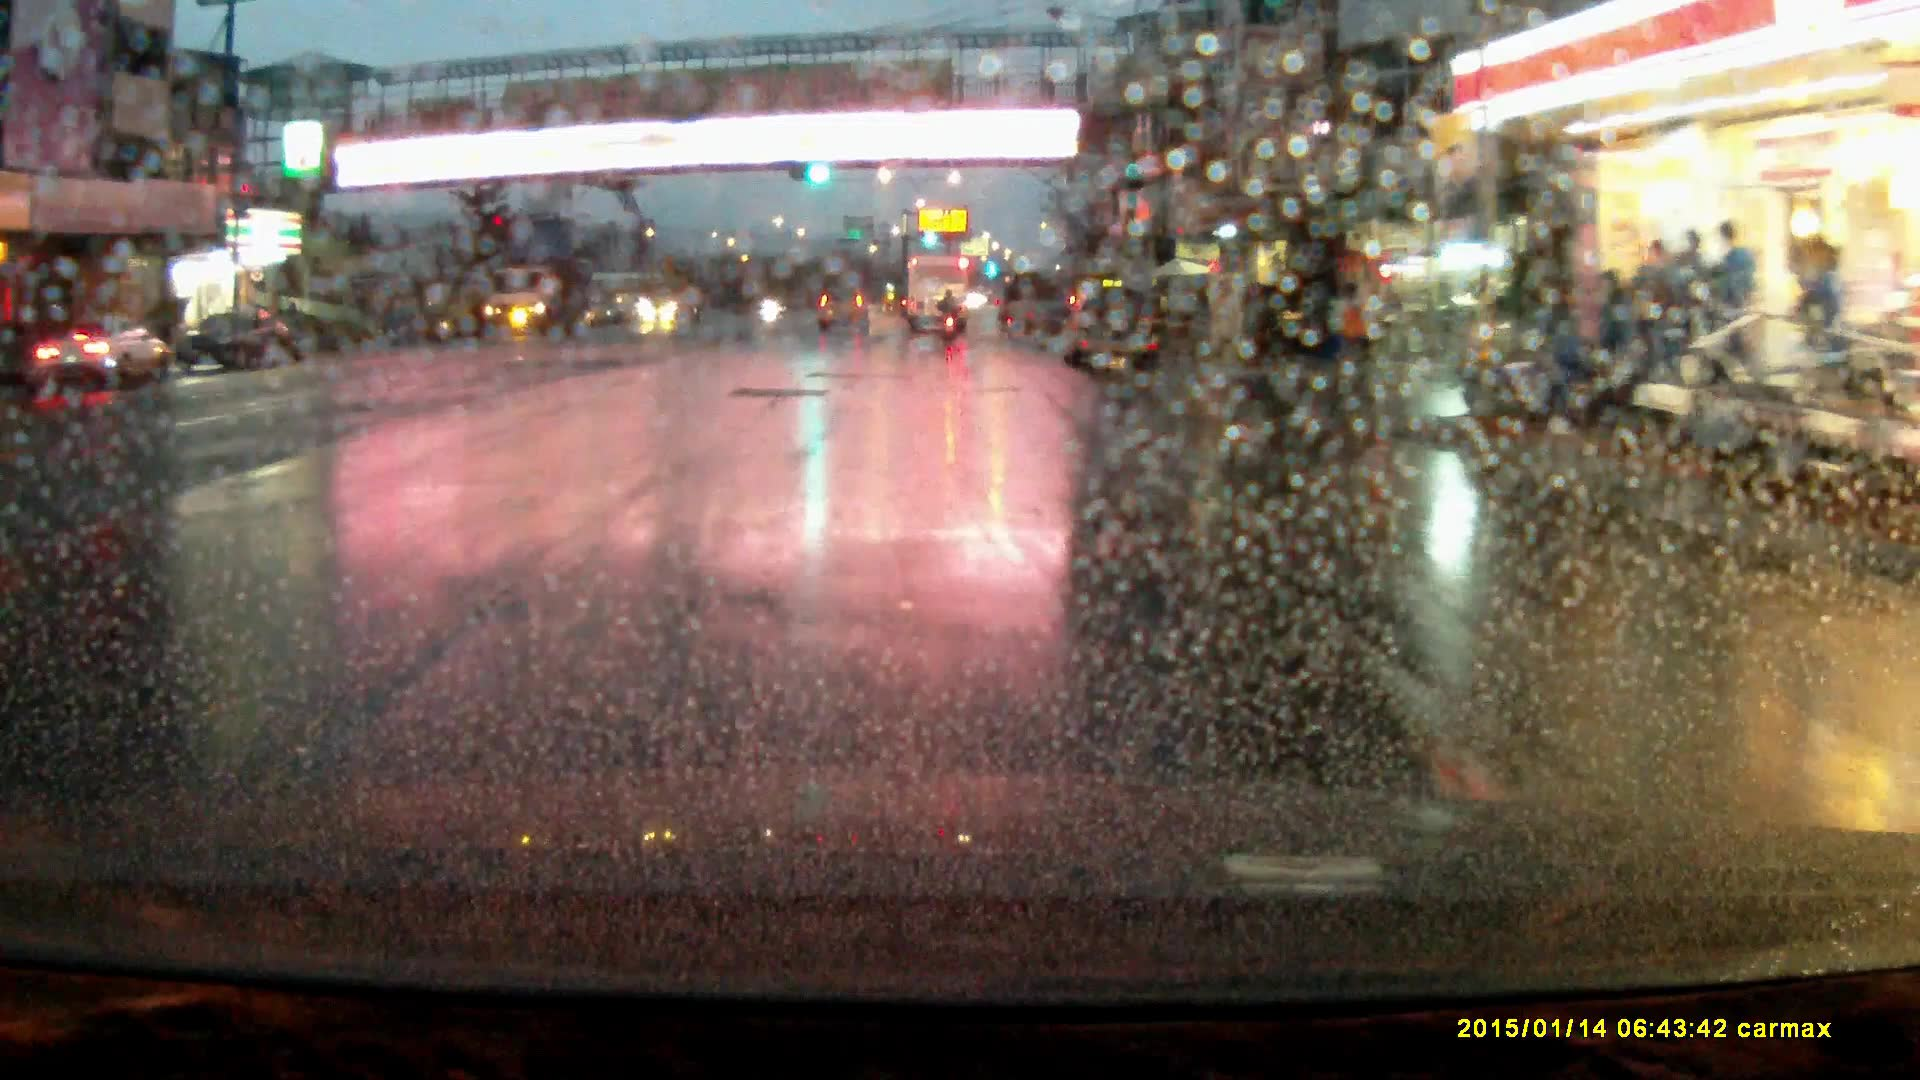rider: (940, 287, 963, 345)
vehicle: (42, 316, 164, 392), (1061, 288, 1158, 378), (171, 310, 299, 377), (483, 262, 590, 340), (1246, 282, 1333, 357), (907, 258, 973, 336), (638, 283, 708, 328), (818, 291, 872, 338)
